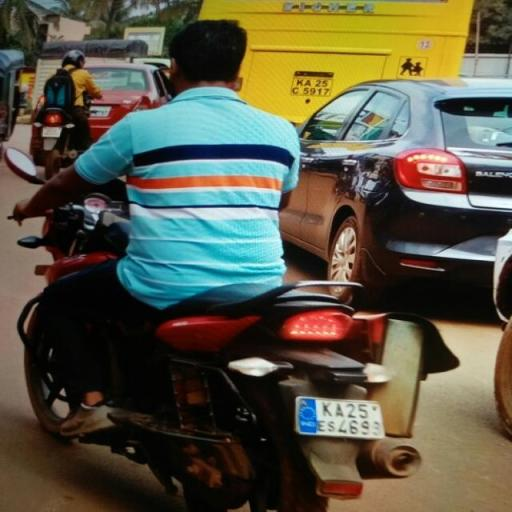bike: (15, 20, 459, 512)
numberplate: (298, 394, 387, 444)
withouthelmet: (172, 22, 244, 88)
